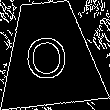O_N: (26, 26, 74, 81)
